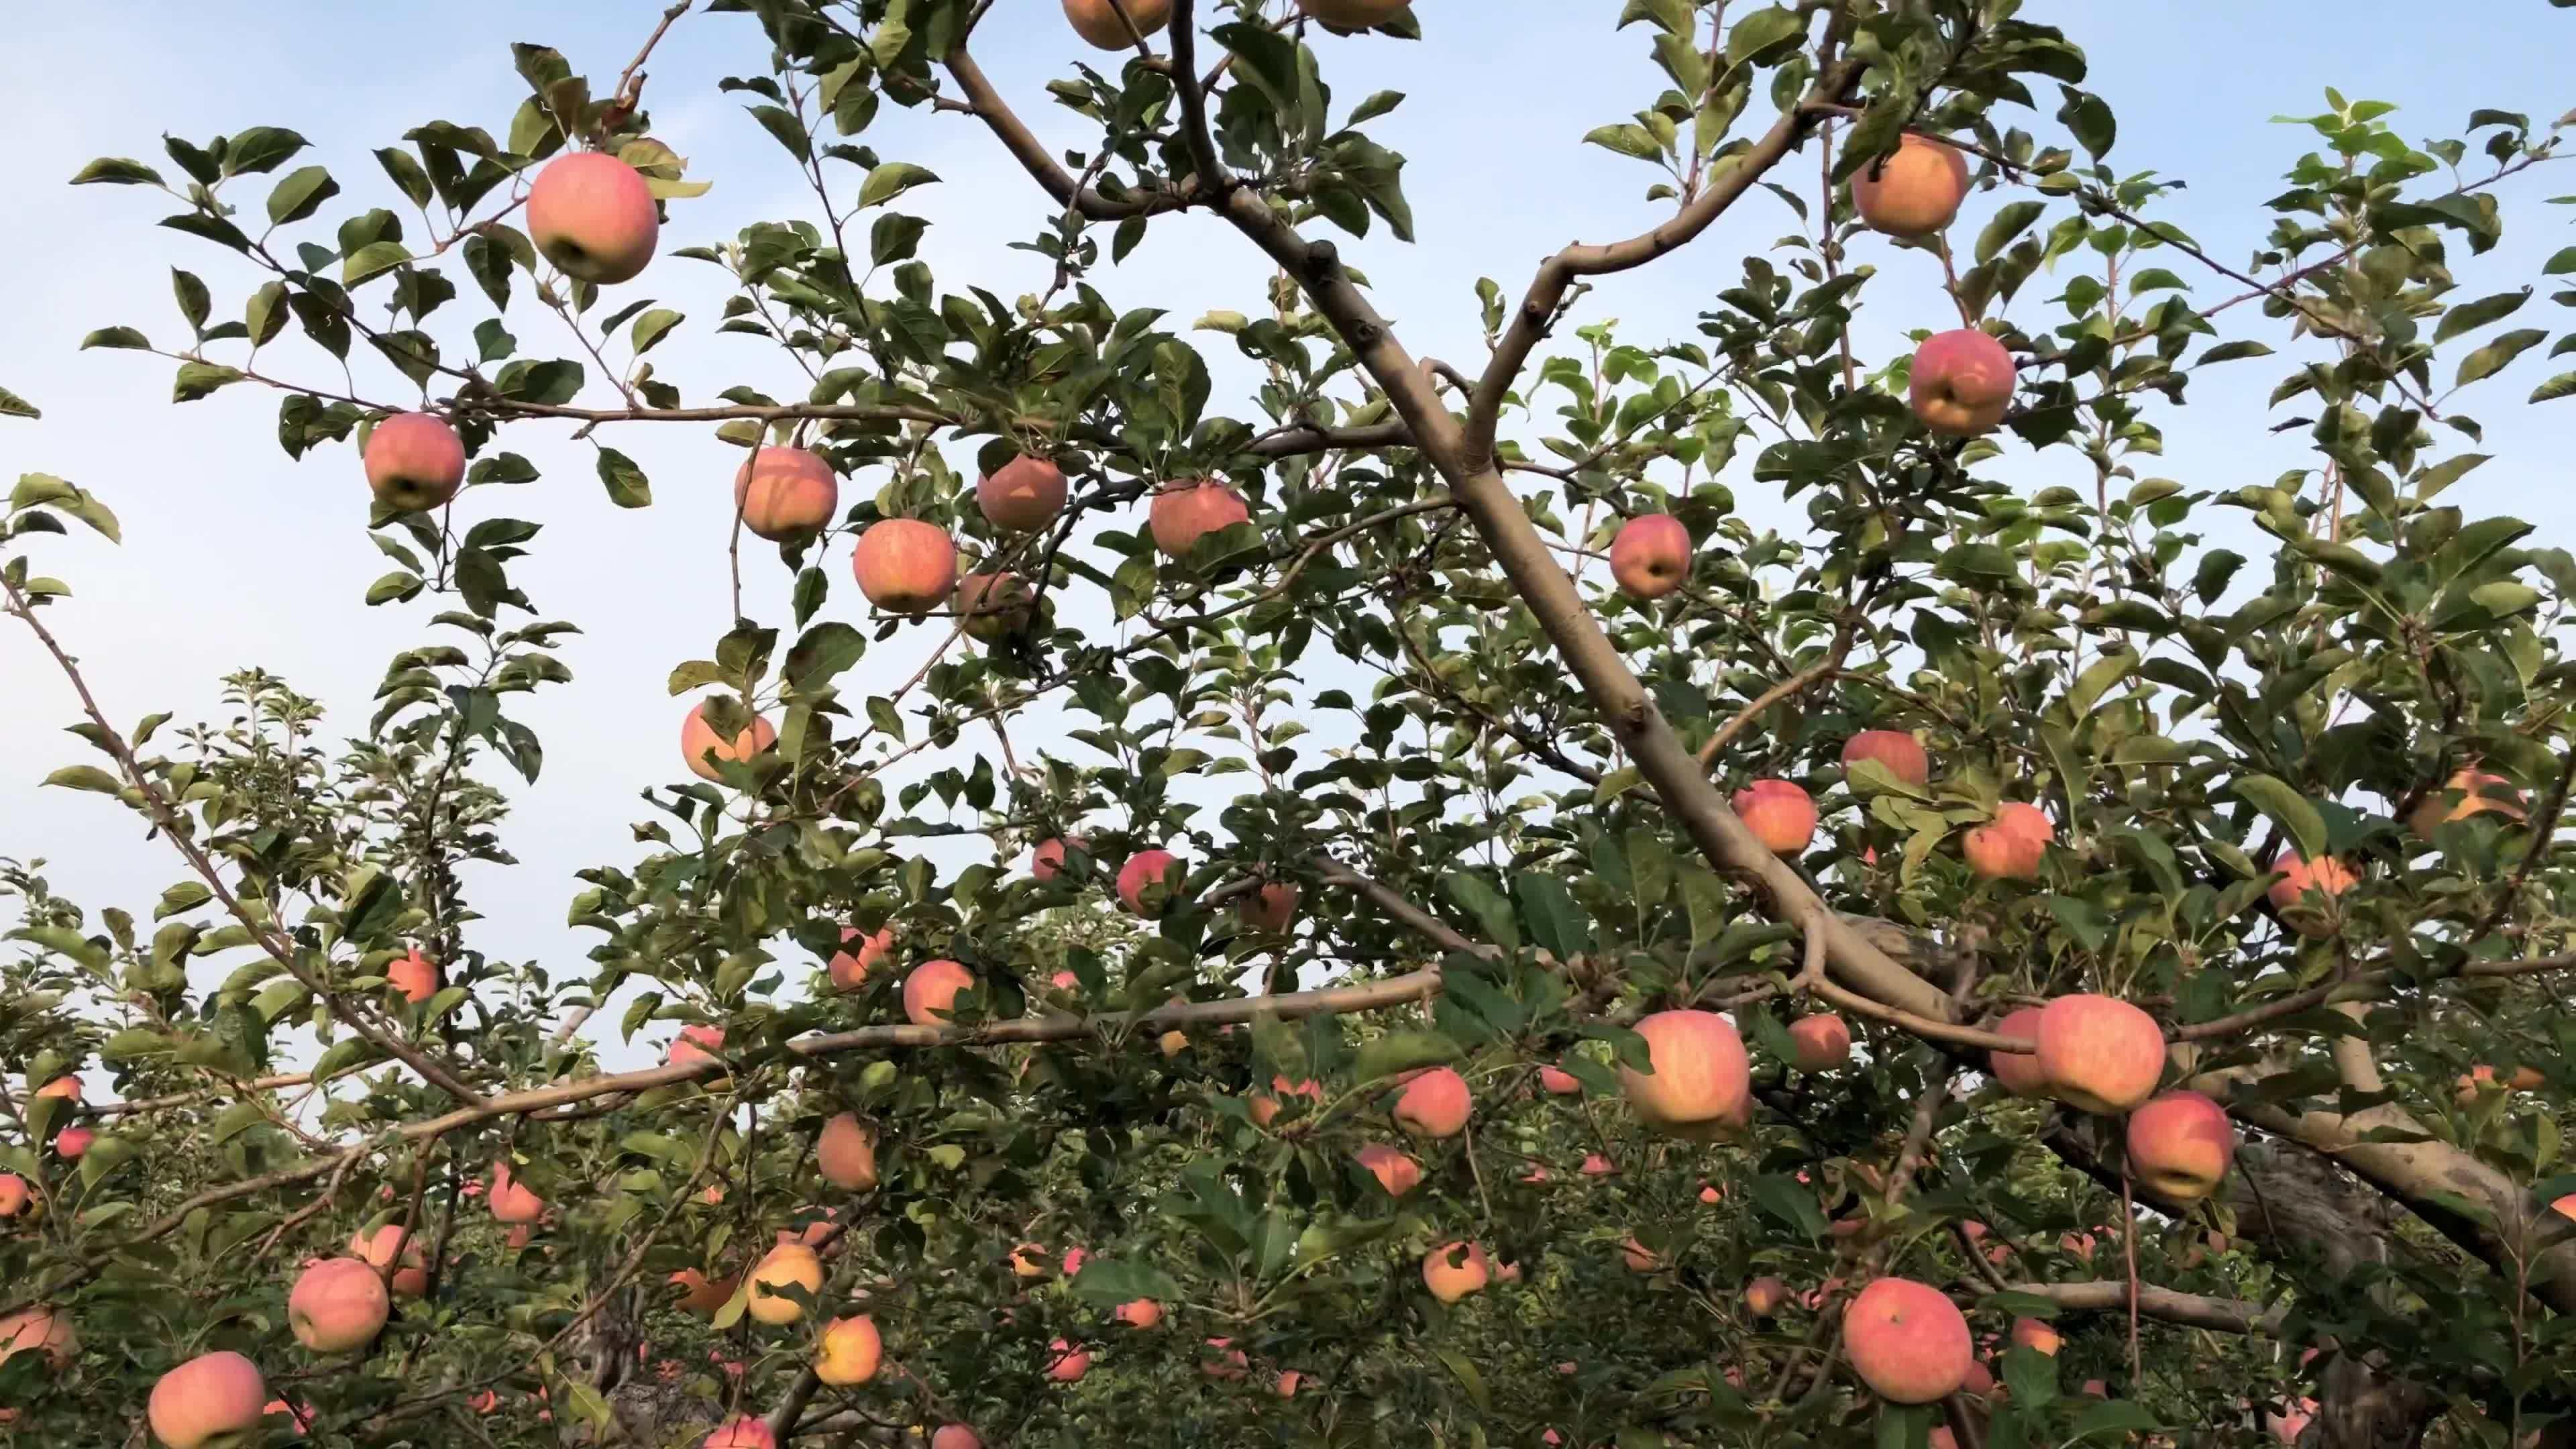apple: (1844, 1272, 1973, 1407), (531, 150, 658, 287), (2036, 996, 2173, 1115), (1628, 1010, 1752, 1136), (1845, 134, 1967, 241), (361, 414, 471, 525), (147, 1348, 269, 1444), (2128, 1100, 2238, 1207), (1909, 329, 2015, 435), (283, 1249, 389, 1353), (740, 446, 840, 556), (855, 520, 961, 617), (1606, 518, 1693, 609), (977, 453, 1069, 538), (1146, 483, 1251, 557), (1966, 805, 2059, 885), (1732, 780, 1821, 858), (904, 961, 987, 1039), (1844, 732, 1932, 796), (1118, 851, 1187, 922), (1790, 1016, 1854, 1077), (1033, 837, 1097, 897), (387, 952, 442, 1010)
